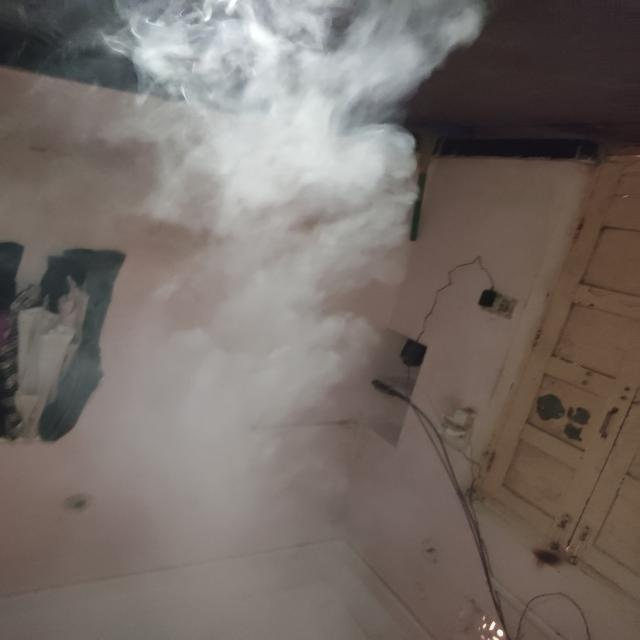smoke: (173, 0, 466, 388)
